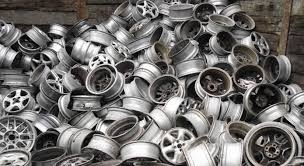metal: (239, 118, 304, 164), (157, 122, 207, 166), (241, 78, 294, 118), (229, 60, 278, 97), (83, 62, 128, 102), (51, 122, 107, 154), (118, 134, 166, 166), (81, 128, 124, 162), (1, 115, 38, 154), (101, 114, 147, 144), (191, 66, 232, 98), (65, 34, 106, 66), (144, 74, 186, 105), (178, 135, 219, 166), (258, 51, 296, 84), (40, 68, 75, 103), (164, 35, 202, 66), (1, 86, 38, 117), (206, 30, 245, 58), (104, 38, 141, 66), (242, 29, 274, 58), (23, 23, 57, 49), (229, 8, 260, 36), (16, 30, 47, 57), (131, 1, 164, 25), (205, 12, 236, 36), (85, 50, 117, 73), (177, 17, 207, 41), (143, 40, 170, 65)
